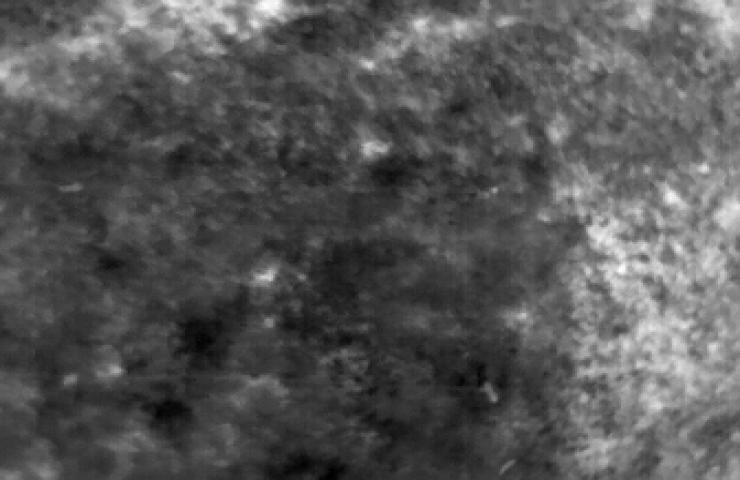landmines: (252, 265, 281, 287)
